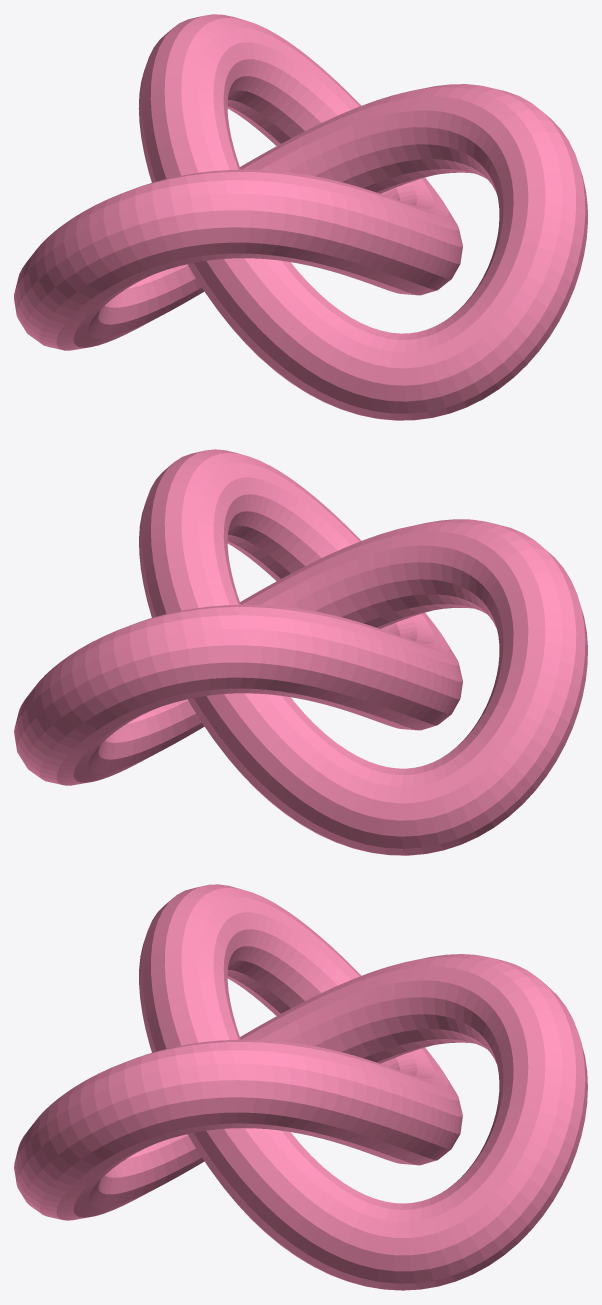
3 renders of one model, top to bottom at view 1: azimuth 30°, elevation 25°; view 2: azimuth 150°, elevation 25°; view 3: azimuth 270°, elevation 25°, orthographic.
Visible parts, largest first — view 1: TorusKnot; view 2: TorusKnot; view 3: TorusKnot.
Part boxes in pixels (x1,y1,x2,y2): TorusKnot: [14, 14, 587, 420]; TorusKnot: [14, 449, 587, 855]; TorusKnot: [14, 884, 587, 1290].
Size of the model in its own units: 6.05 by 2.99 by 6.47.
1 material, 1 textured.
